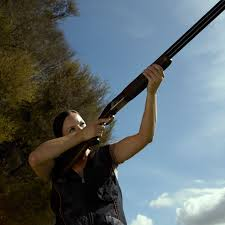Gun: (94, 13, 191, 113)
